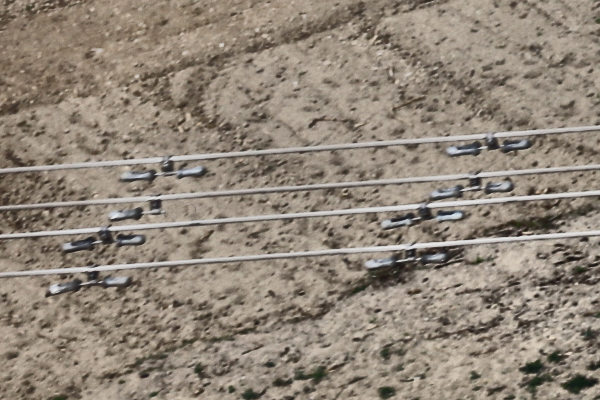damper: (42, 261, 136, 298), (439, 128, 531, 159), (427, 168, 513, 201), (361, 239, 447, 272), (57, 225, 146, 255), (115, 153, 207, 182), (378, 201, 466, 230)
damper_defect: (103, 190, 169, 222)
